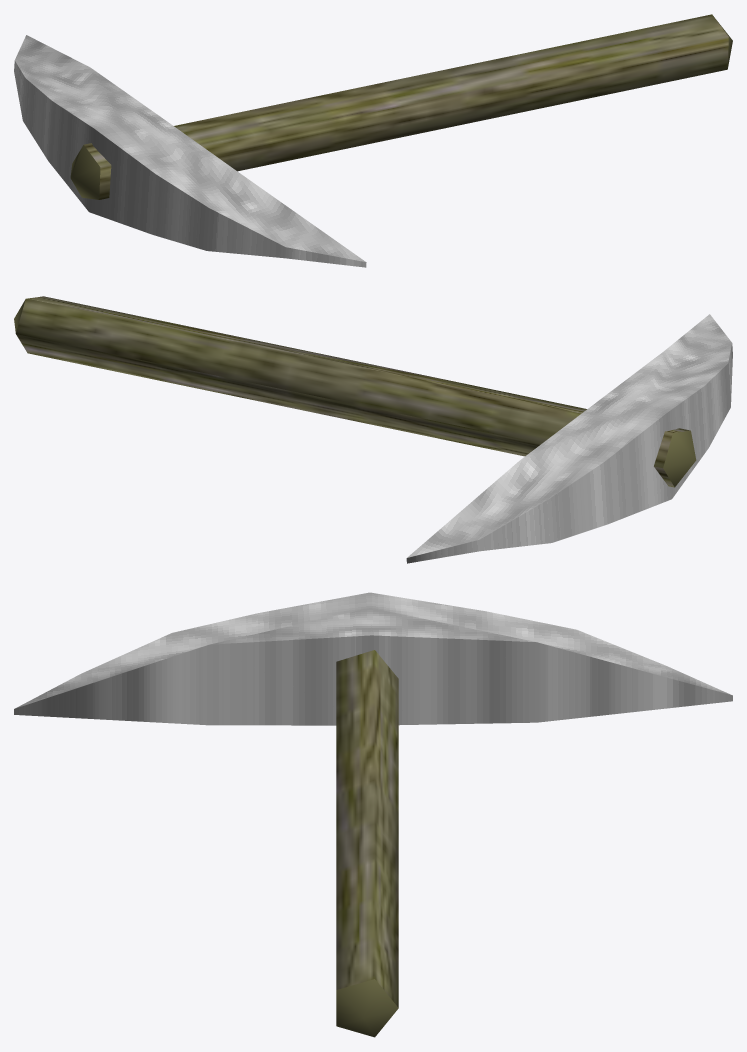
File: pickaxe.obj
The picture shows the model from 3 angles, top to bottom: view 1: azimuth 30°, elevation 25°; view 2: azimuth 150°, elevation 25°; view 3: azimuth 270°, elevation 25°; orthographic projection. The views are drawn at different scales.
Visible parts, largest first — view 1: Cylinder02; view 2: Cylinder02; view 3: Cylinder02.
Boxes of the visible parts, x1,y1,x2,y2 form: Cylinder02: (14, 14, 732, 267); Cylinder02: (14, 296, 732, 563); Cylinder02: (14, 592, 732, 1037).
Bounding box in the file's own units: 31.34 × 4.12 × 26.
